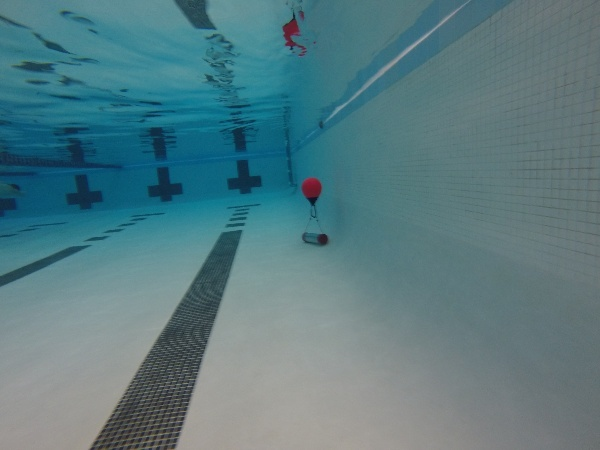buoy_red: (297, 177, 327, 208)
